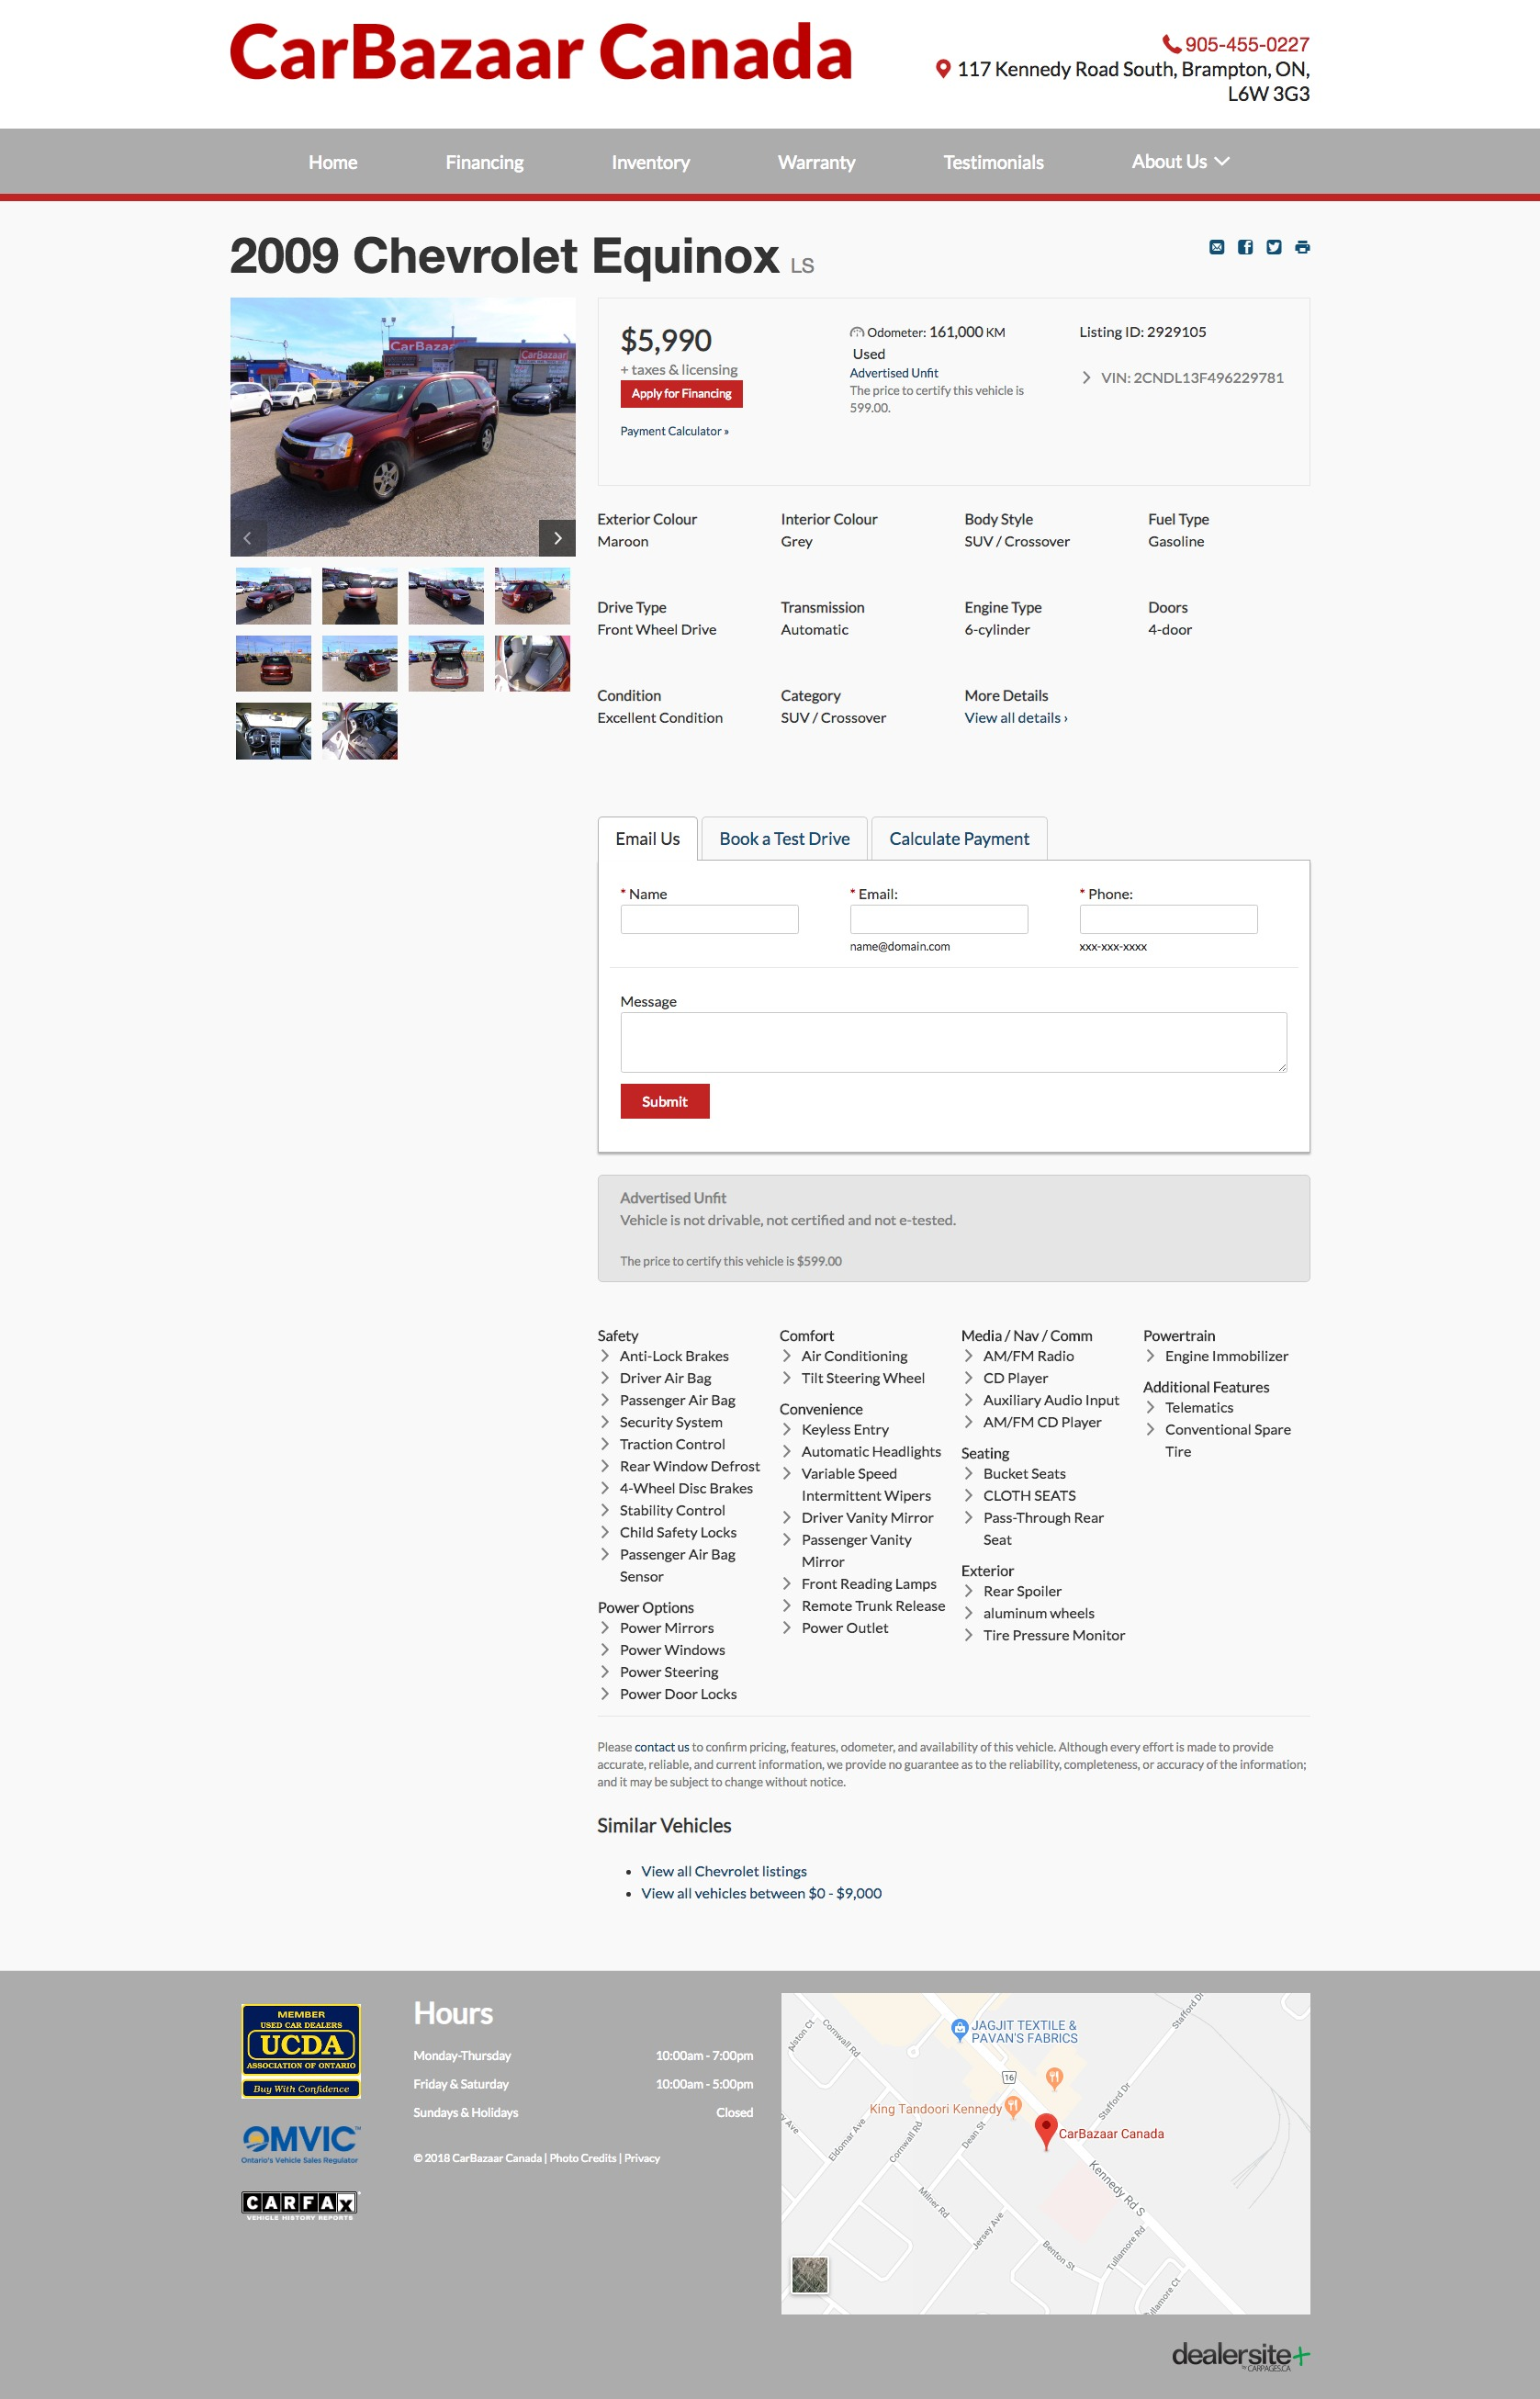car: (538, 519, 577, 558)
